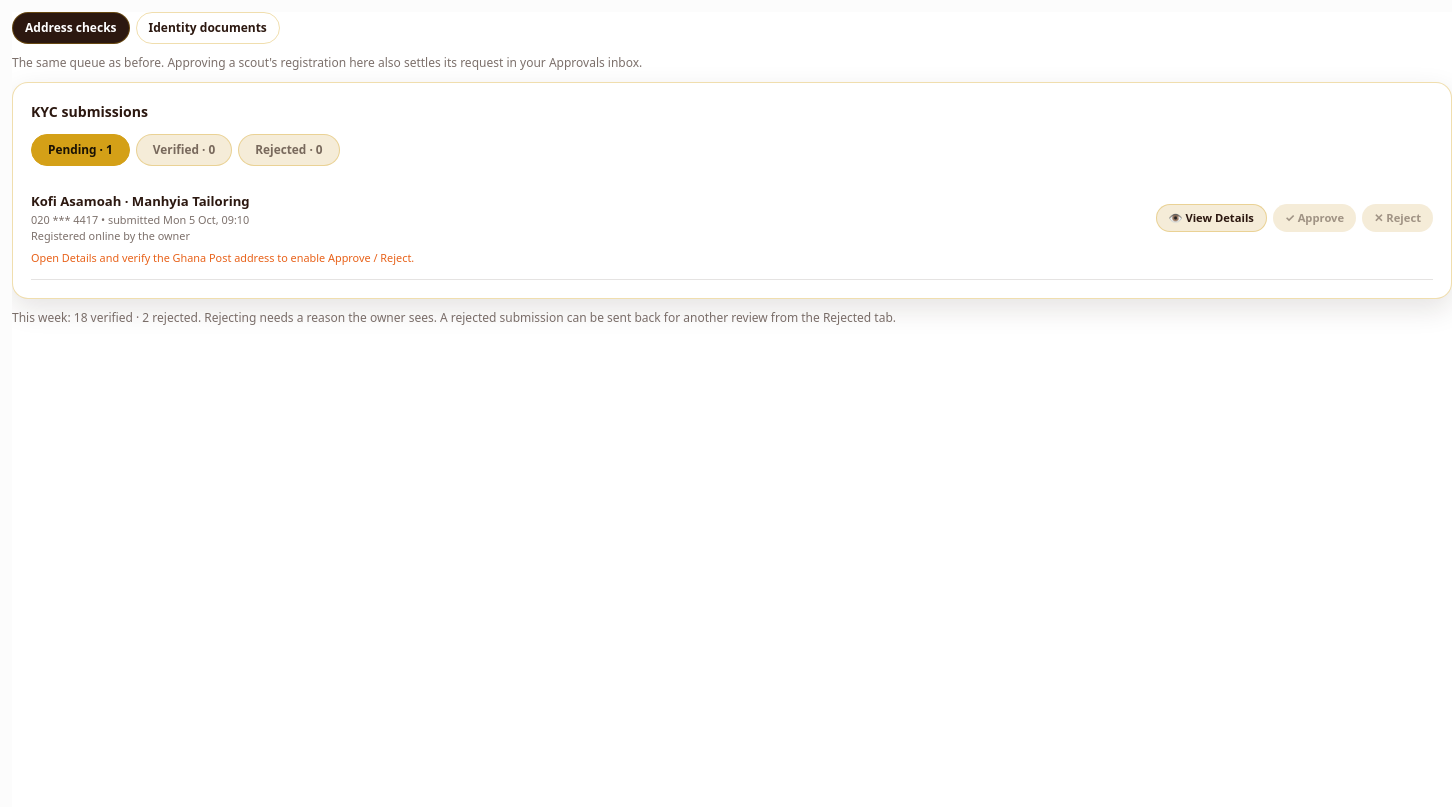
Test case: KYC queue (Operations canvas) › does not offer to send a scout without scouts.assign
Click the button "👁️ View Details". click: [1211, 218]
box: top-left (1156, 204), bottom-right (1267, 232)
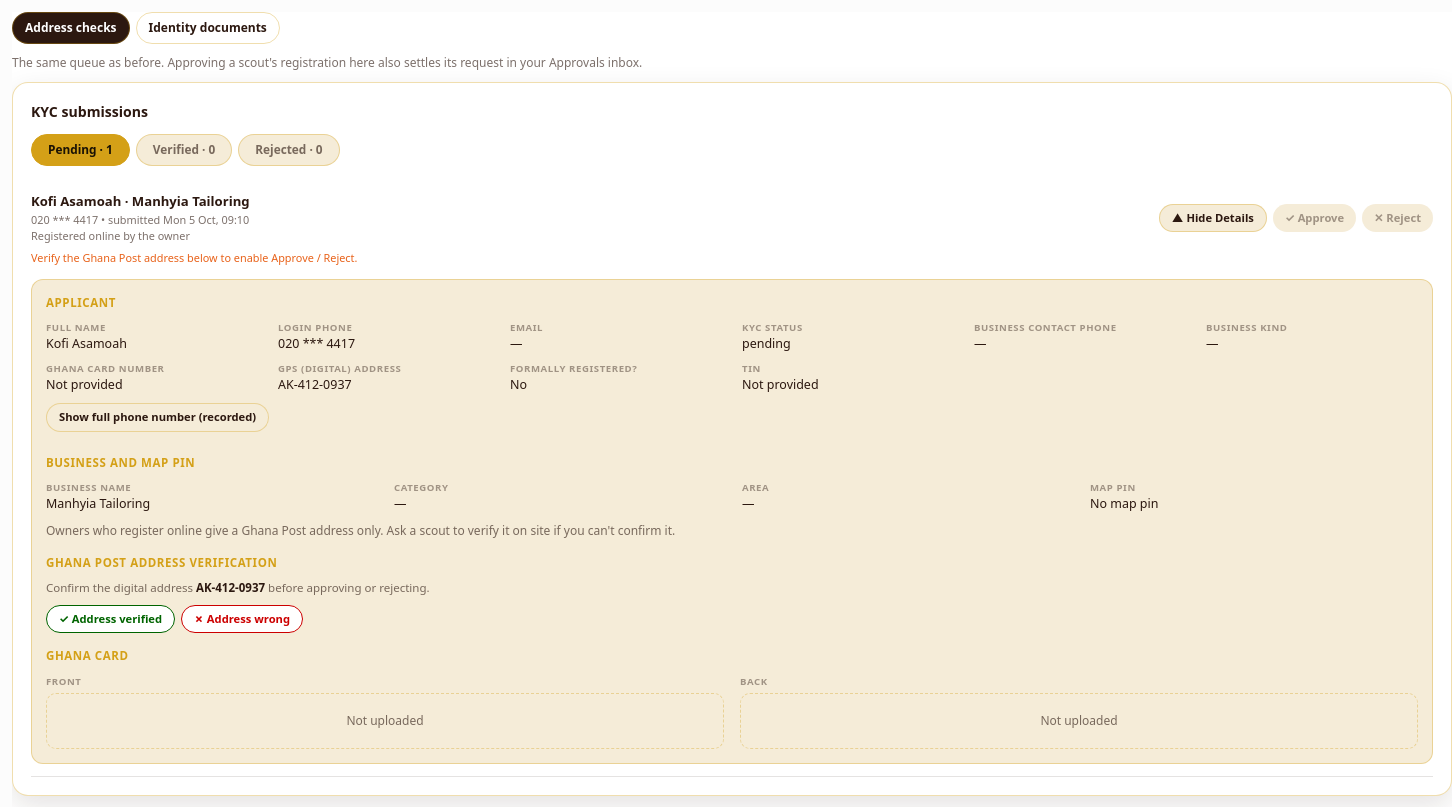
Expected: the text "Confirm the digital address" is shown, top-left (46, 580), bottom-right (196, 595)
